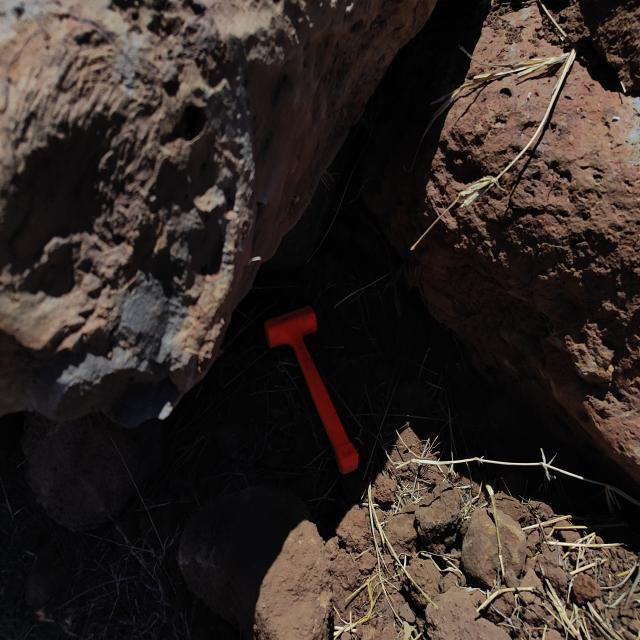Orange_hammer: (264, 304, 359, 476)
